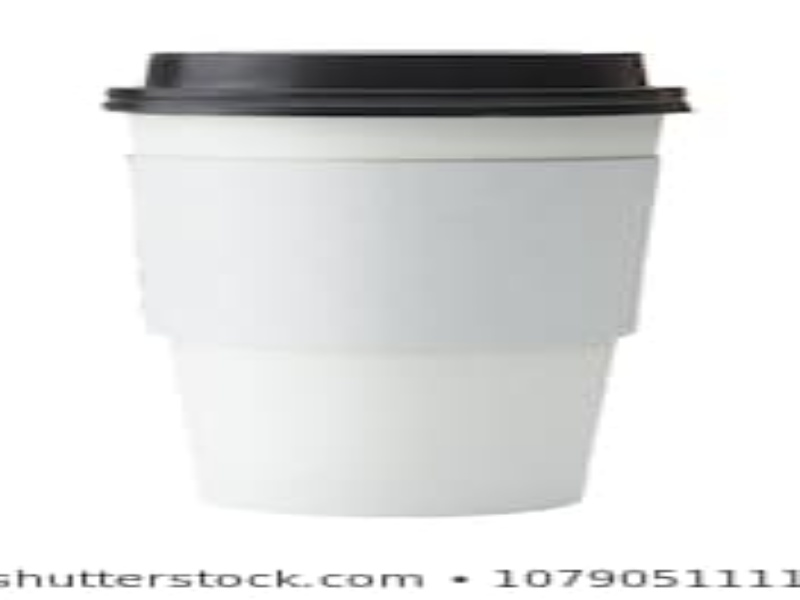coffee-lid: (102, 50, 696, 115)
plastic-cup: (102, 49, 690, 523)
